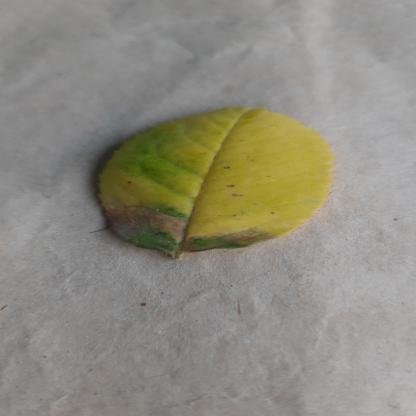black-spot: (95, 107, 336, 254)
